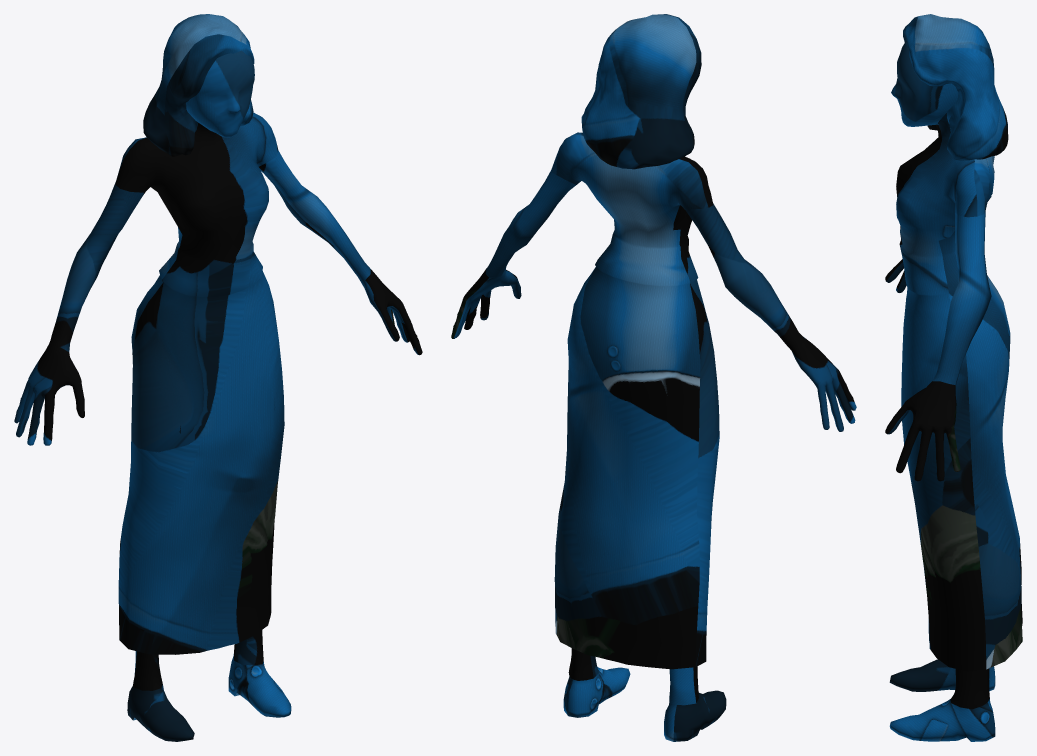
Rendered from SK_Woman_Geo.fbx.
3 renders of one model, left to right at view 1: azimuth 30°, elevation 25°; view 2: azimuth 150°, elevation 25°; view 3: azimuth 270°, elevation 25°, orthographic.
Parts seen in each view (by area): view 1: SK_Woman_geo; view 2: SK_Woman_geo; view 3: SK_Woman_geo.
Part boxes in pixels (x1=…): SK_Woman_geo: x1=14, y1=14, x2=422, y2=741; SK_Woman_geo: x1=451, y1=14, x2=856, y2=741; SK_Woman_geo: x1=885, y1=14, x2=1022, y2=741.
Size of the model in its own units: 93.32 by 158 by 28.5.
